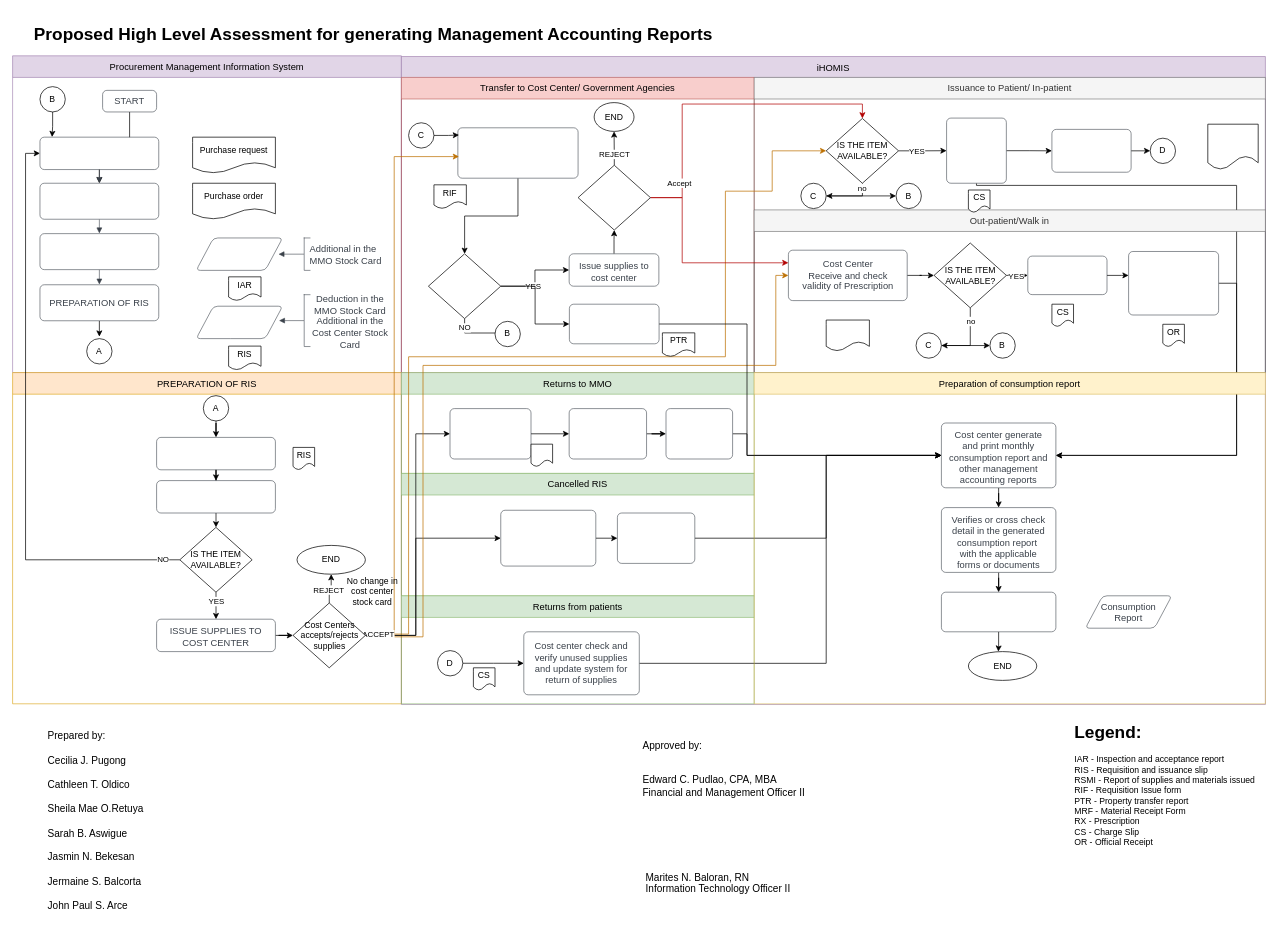
Some shapes in this 1278 by 946 pixel diagram are drawn without their labels. The shapes that lost their labels are listed below. From the top down, each one's centre as x and y in pixels, then its label:
At pixel 99 153: "PREPARATION OF PURCHASE REQUEST".
At pixel 517 152: "Cost center receive and check completeness of RIF/Request letter details".
At pixel 976 150: "Charge the supplies on the account of the patient".
At pixel 1091 150: "Issue/administers the supplies to patient".
At pixel 1232 146: "Statement of Account".
At pixel 99 201: "PREPARATION OF PURCHASE ORDER".
At pixel 613 197: "Cost center accept/reject supplies".
At pixel 99 251: "PREPARATION OF IAR".
At pixel 239 253: "SUMMARY OF IAR".
At pixel 464 286: "Is the supplies available ?".
At pixel 1067 275: "Cost center issue charge slip for payment".
At pixel 1173 283: "Cost center checks for the Official Receipt and issue supplies to patient".
At pixel 239 322: "RSMI REPORT".
At pixel 614 324: "Issue supplies to government agencies".
At pixel 847 335: "RX".
At pixel 215 453: "COST CENTER PREPARES RIS".
At pixel 490 433: "Cost center check expire supplies and prepare MRF".
At pixel 607 433: "Submit to MMO with the supplies".
At pixel 699 433: "MMO acknowledge return of supplies".
At pixel 541 455: "MRF".
At pixel 215 496: "SUBMIT RIS TO MMO".
At pixel 548 538: "Cost center check RIS for any discrepancy and inform MMO".
At pixel 656 537: "MMO acknowledge cancelled supplies".
At pixel 998 612: "Submit to Accounting Office".
